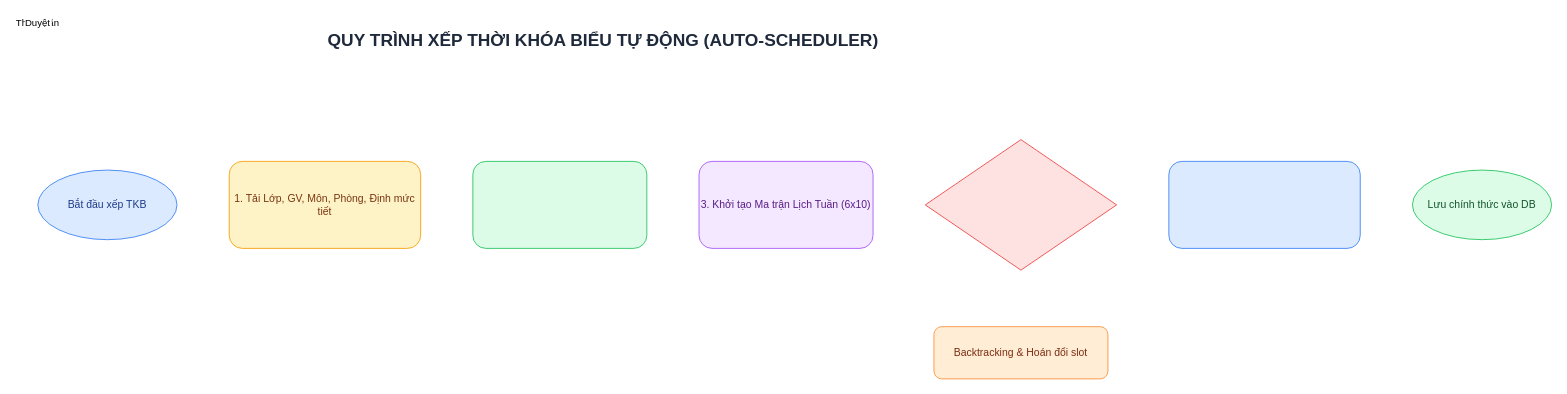
The diagram is 1567 pixels wide and 394 high, and some of its shapes have lost their labels. Each missing label, with the centre of its shape:
2. Phân rã môn KHTN (Lý, Hóa, Sinh): pixel 559 204
4. Kiểm tra Trùng GV / Phòng?: pixel 1020 204
5. Sinh Draft TKB & Cho phép sửa tay: pixel 1264 204
